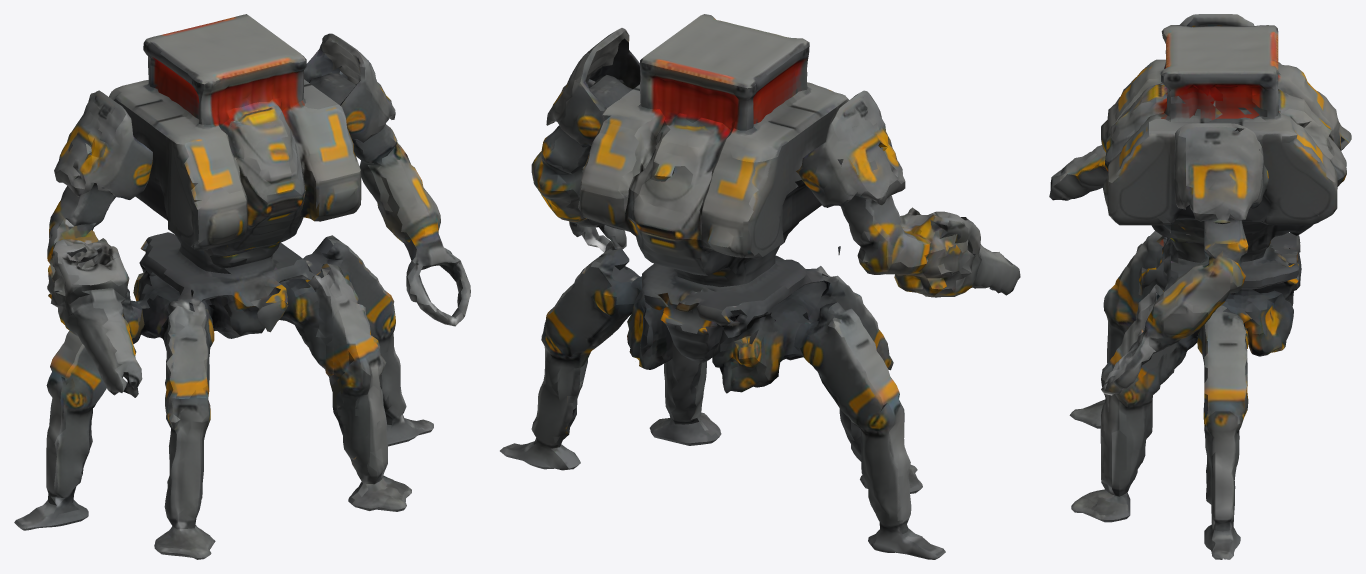
The model's file is Builder.glb.
3 views of the same model, side by side, from view 1: azimuth 30°, elevation 25°; view 2: azimuth 150°, elevation 25°; view 3: azimuth 270°, elevation 25° (orthographic). The views are drawn at different scales.
Visible parts, largest first — view 1: tmp0tsbm5h7.ply; view 2: tmp0tsbm5h7.ply; view 3: tmp0tsbm5h7.ply.
Part boxes in pixels (box(x1,y1,x2,y2)): tmp0tsbm5h7.ply: box(14, 14, 470, 559); tmp0tsbm5h7.ply: box(500, 14, 1020, 559); tmp0tsbm5h7.ply: box(1049, 14, 1351, 559).
Size of the model in its own units: 1.94 by 1.93 by 1.27.
Materials: 1 (1 with a texture image).
